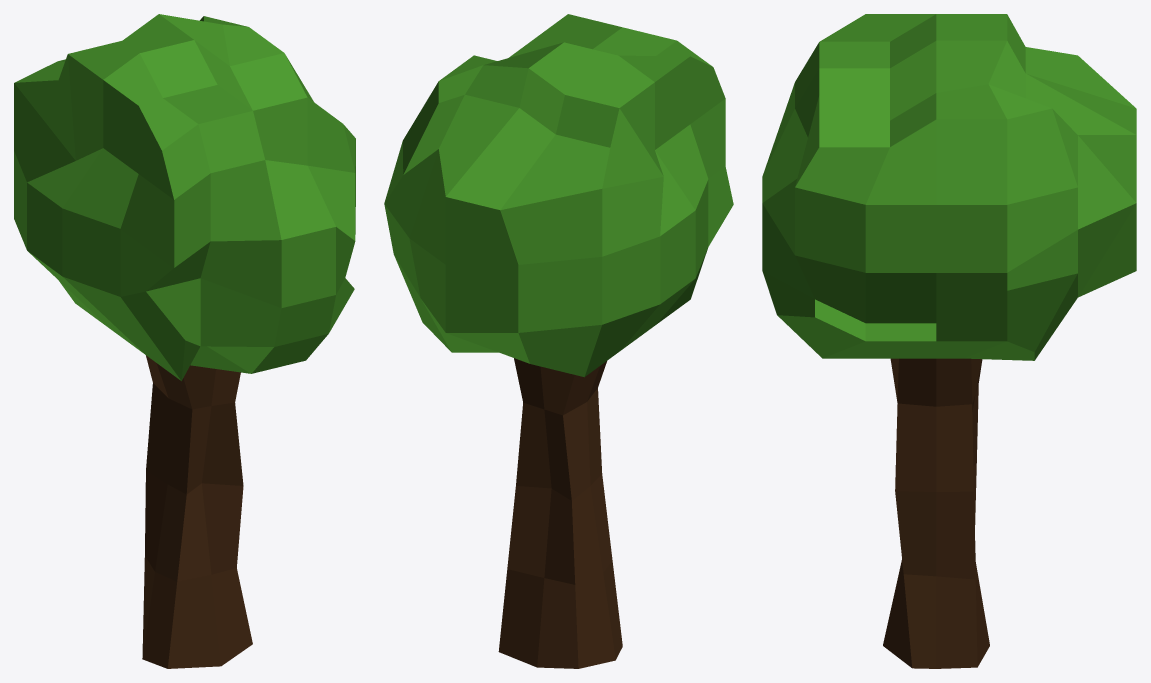
Rendered from drzewko1.fbx.
The picture shows the model from 3 angles, left to right: view 1: azimuth 30°, elevation 25°; view 2: azimuth 150°, elevation 25°; view 3: azimuth 270°, elevation 25°; orthographic projection.
Visible parts, largest first — view 1: Cube.001, Cube; view 2: Cube.001, Cube; view 3: Cube.001, Cube.
Part boxes in pixels (x1,y1,x2,y2): Cube.001: (14,14,355,380); Cube: (142,355,252,668); Cube.001: (384,14,733,377); Cube: (498,358,622,668); Cube.001: (762,14,1136,360); Cube: (883,358,989,668).
Bounding box in the file's own units: 879 × 1906 × 1068.
